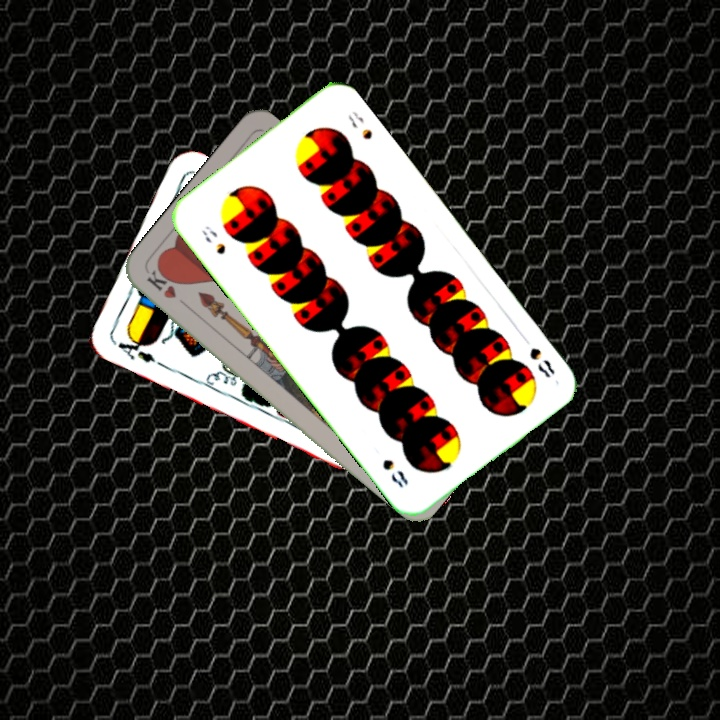EA: (111, 331, 158, 366)
HK: (142, 267, 194, 313)
S8: (525, 343, 558, 381), (197, 221, 229, 257)
